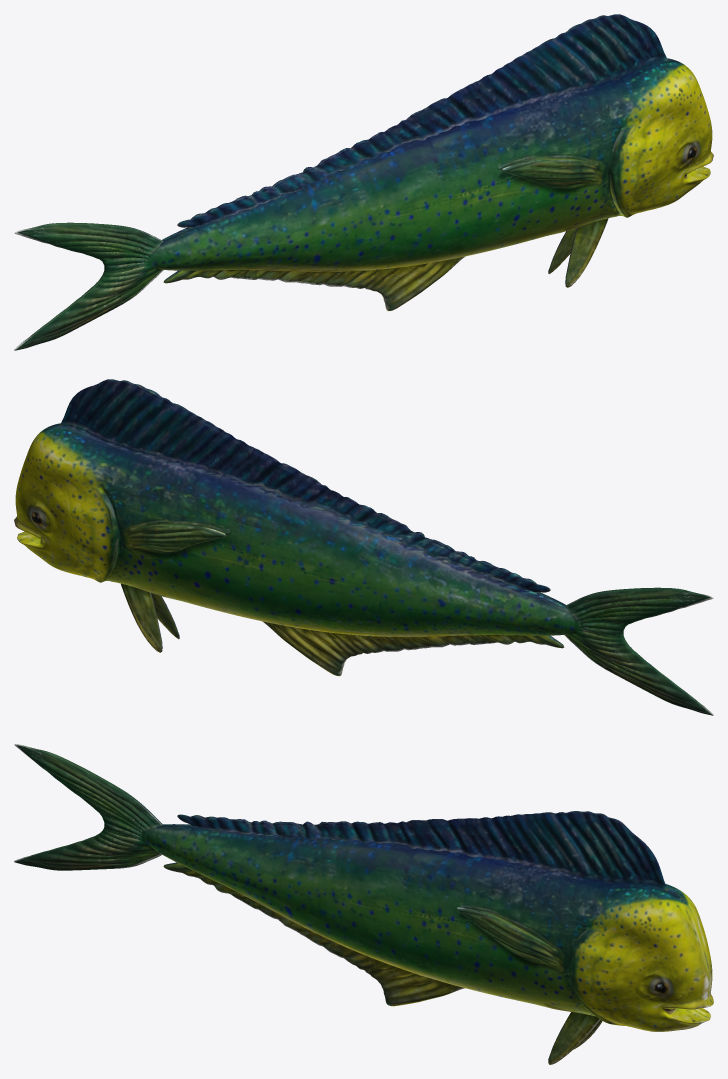
Rendered from pez-dorado.glb.
3 renders of one model, top to bottom at view 1: azimuth 30°, elevation 25°; view 2: azimuth 150°, elevation 25°; view 3: azimuth 330°, elevation 25°, orthographic.
Visible parts, largest first — view 1: Pez_dorado; view 2: Pez_dorado; view 3: Pez_dorado.
Part boxes in pixels (x1,y1,x2,y2): Pez_dorado: (14, 14, 713, 350); Pez_dorado: (14, 379, 713, 715); Pez_dorado: (14, 744, 713, 1064).
Bounding box in the file's own units: 0.086 × 0.03 × 0.0113.
Materials: 1 (1 with a texture image).
